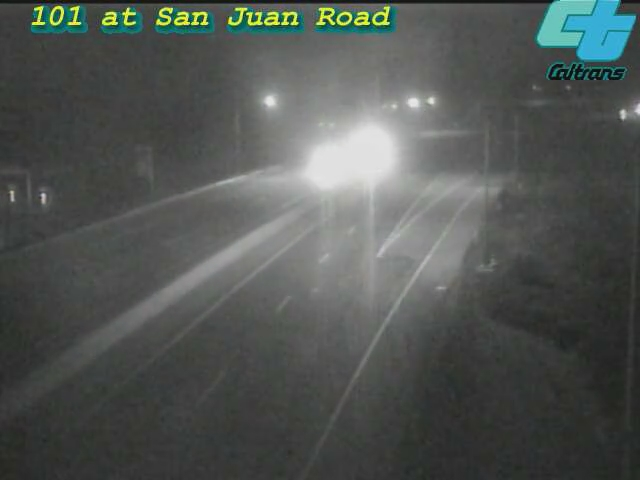vehicle: (294, 122, 374, 202), (346, 123, 396, 173), (595, 90, 640, 140)
